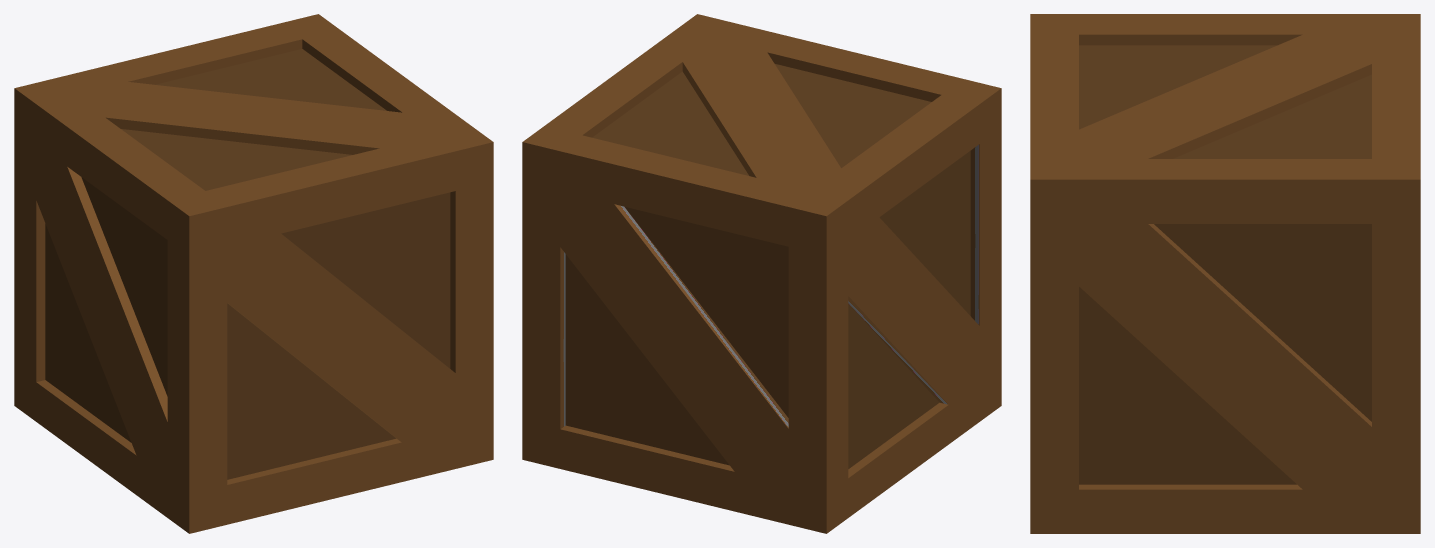
3 views of the same model, side by side, from view 1: azimuth 30°, elevation 25°; view 2: azimuth 150°, elevation 25°; view 3: azimuth 270°, elevation 25° (orthographic). The views are drawn at different scales.
Parts seen in each view (by area): view 1: Line Box; view 2: Line Box; view 3: Line Box.
Boxes of the visible parts, x1,y1,x2,y2 form: Line Box: [14, 14, 493, 533]; Line Box: [522, 14, 1001, 533]; Line Box: [1030, 14, 1420, 533].
Bounding box in the file's own units: 16.51 × 16.48 × 16.45.
Materials: 1 (1 with a texture image).
